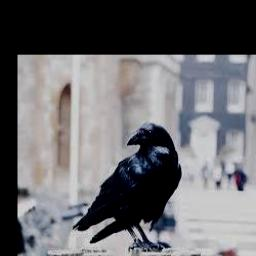Crow: (73, 121, 182, 252)
